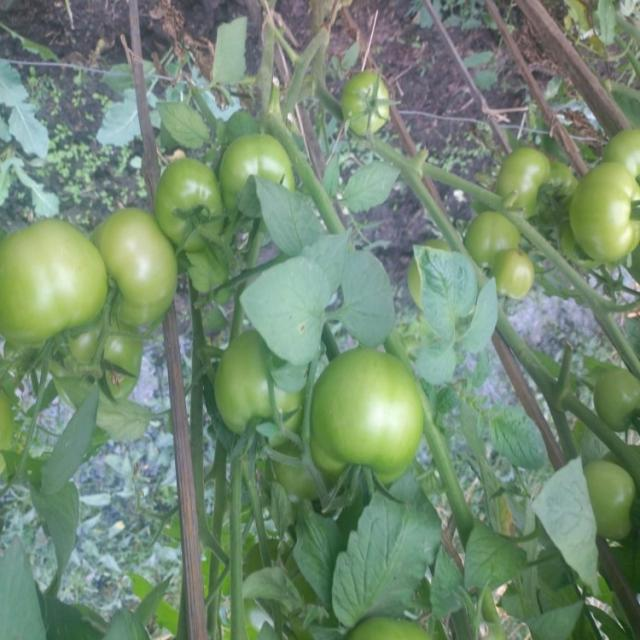tomato: (302, 345, 424, 505), (8, 203, 101, 362), (93, 203, 192, 336), (207, 326, 301, 437), (148, 159, 244, 250), (564, 167, 640, 274), (64, 326, 158, 410), (196, 130, 308, 198), (566, 459, 640, 533), (499, 147, 560, 215), (583, 362, 640, 433), (488, 242, 541, 313), (338, 607, 438, 640), (465, 213, 517, 275), (344, 67, 392, 127), (596, 124, 640, 175)
